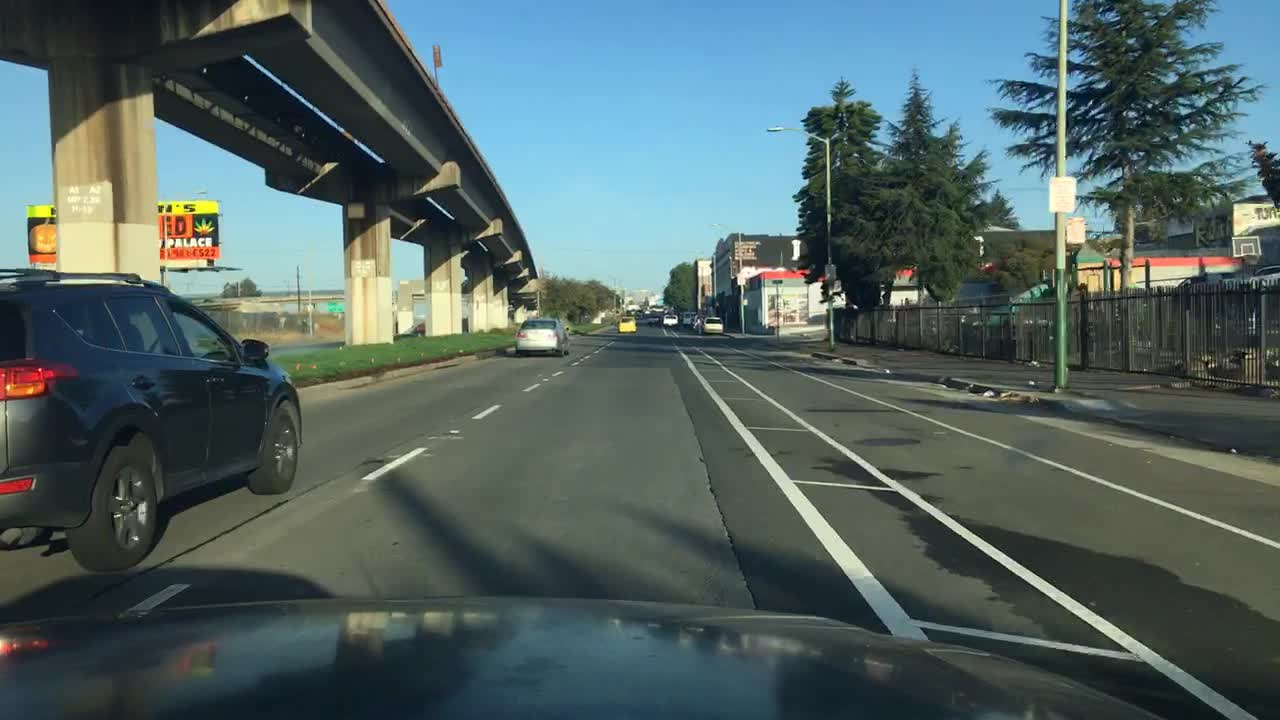car: (0, 266, 304, 571), (513, 317, 566, 358), (1249, 261, 1278, 283), (701, 314, 725, 334), (618, 316, 638, 333), (646, 312, 660, 328), (690, 312, 703, 329), (661, 313, 678, 326), (649, 300, 663, 312), (681, 311, 694, 323), (622, 306, 635, 317), (634, 308, 645, 320)
traffic sign: (1047, 177, 1076, 214), (1065, 216, 1084, 245), (824, 263, 838, 279), (737, 271, 746, 285)
